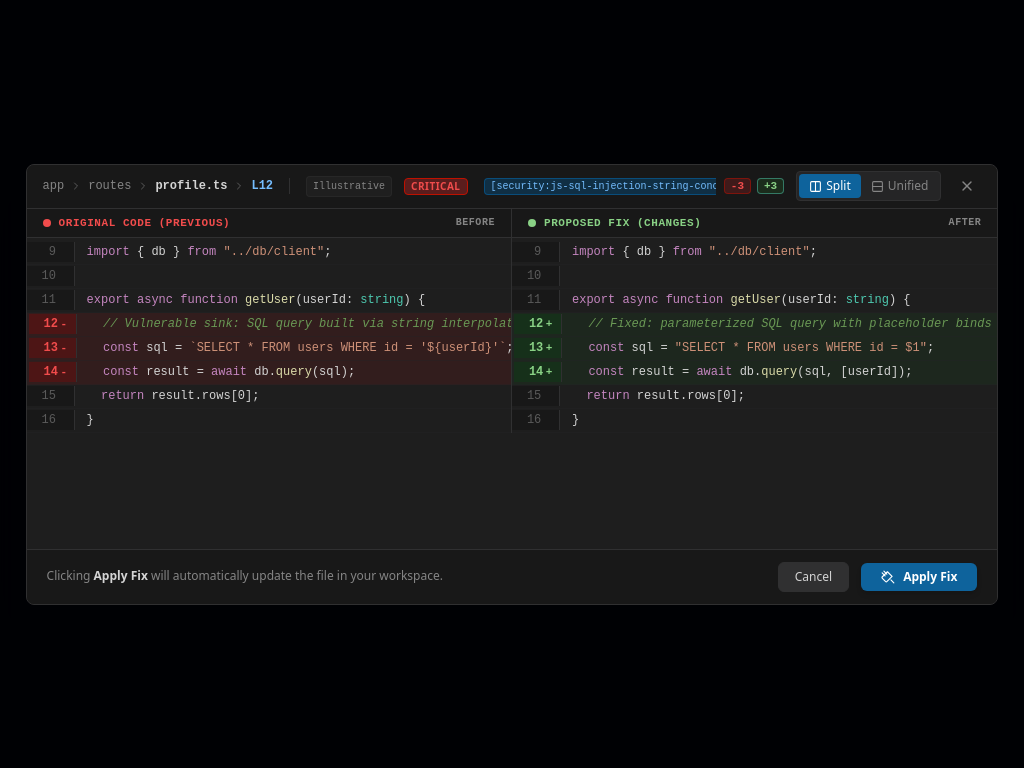
Scenario: DiffPreviewModal › allows toggling between Split and Unified view mode
Click the button titled "Unified Inline View": click(900, 186) [861,174,938,198]
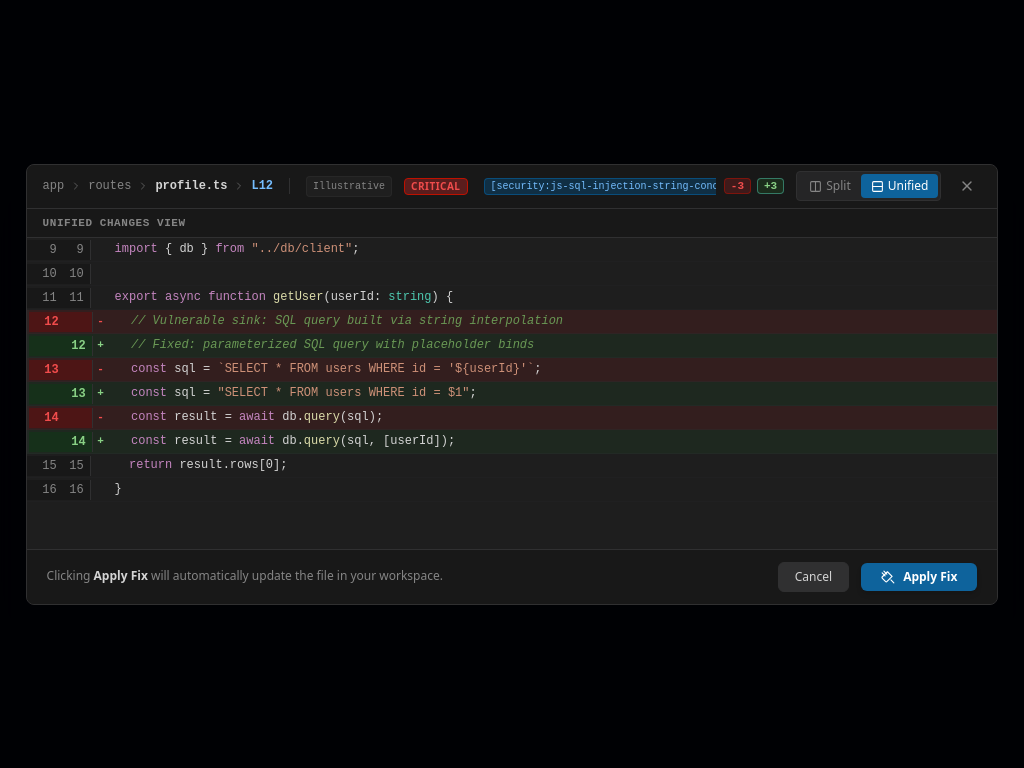
Check: the text "Unified Changes View" is shown, box [27,208,997,238]
Click the button titled "Side-by-side Split View": click(830, 186) [799,174,861,198]
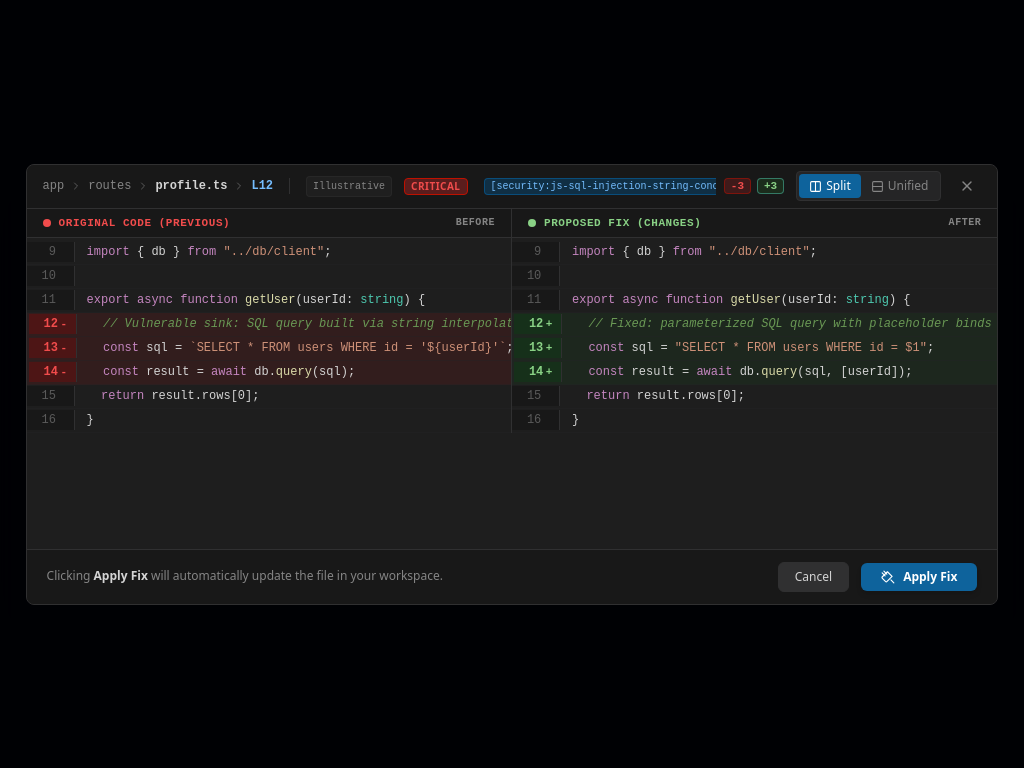
Check: the text "Original Code (Previous)" is shown, box [59,214,230,231]
